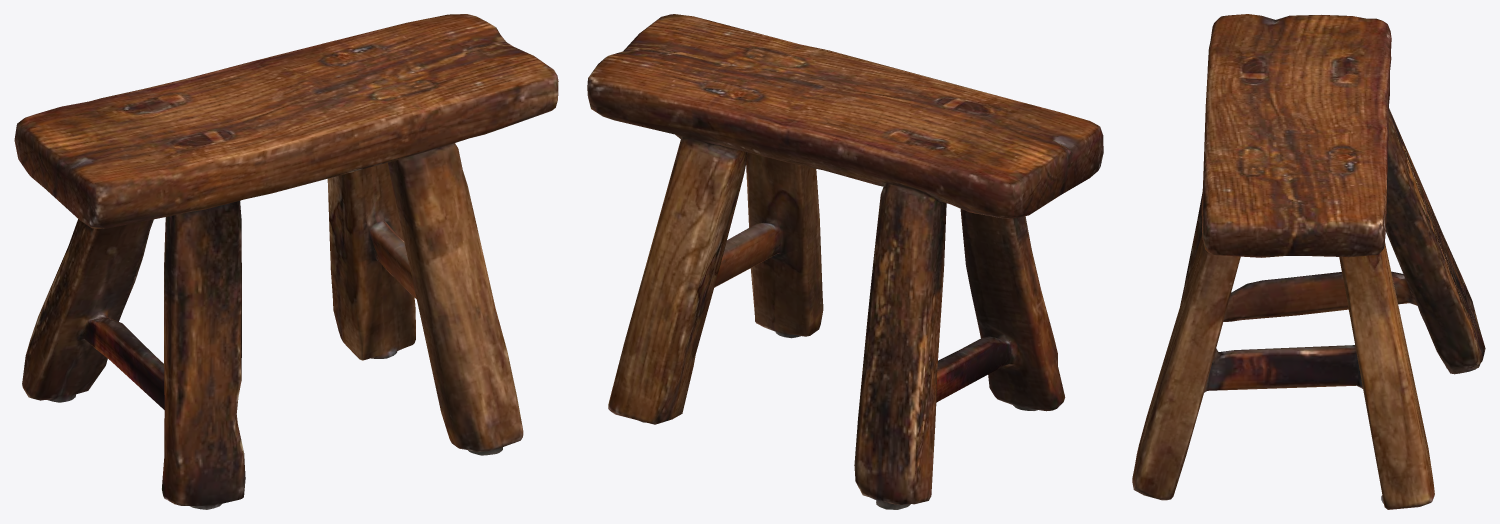
Rendered from stool.glb.
The picture shows the model from 3 angles, left to right: view 1: azimuth 30°, elevation 25°; view 2: azimuth 150°, elevation 25°; view 3: azimuth 270°, elevation 25°; orthographic projection. The views are drawn at different scales.
Parts seen in each view (by area): view 1: wooden_stool_02; view 2: wooden_stool_02; view 3: wooden_stool_02.
Boxes of the visible parts, x1=… form: wooden_stool_02: x1=14, y1=14, x2=558, y2=509; wooden_stool_02: x1=587, y1=14, x2=1103, y2=509; wooden_stool_02: x1=1132, y1=14, x2=1485, y2=509.
Size of the model in its own units: 0.2648 by 0.1819 by 0.1831.
1 material, 1 textured.
